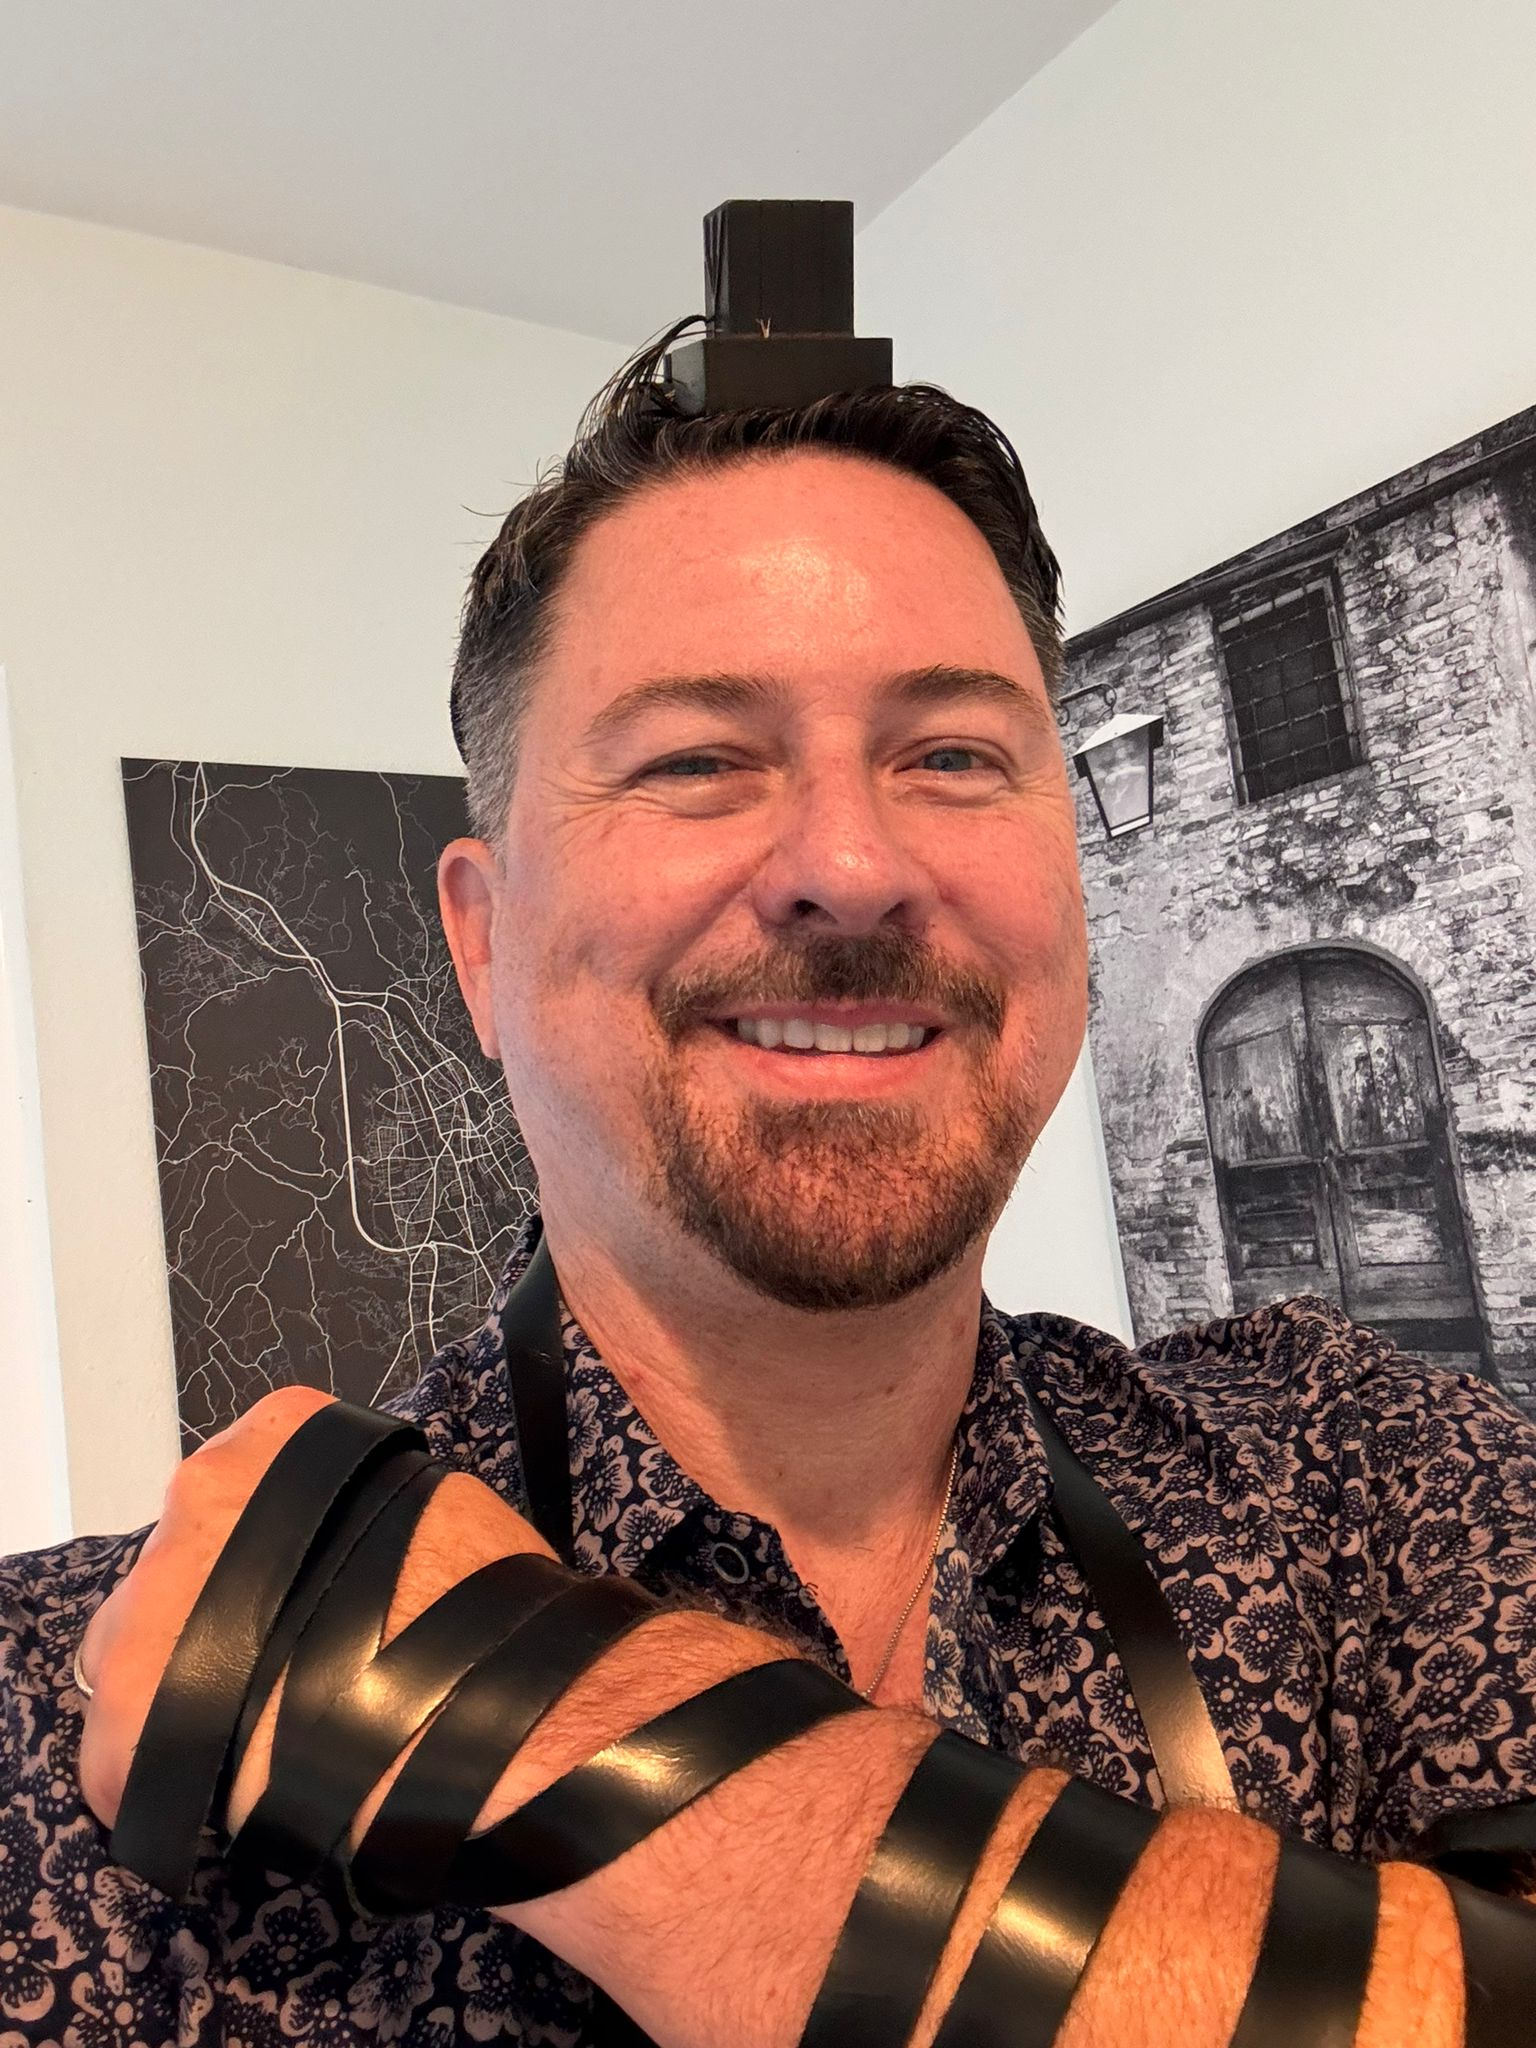tefillin: (670, 197, 892, 410)
